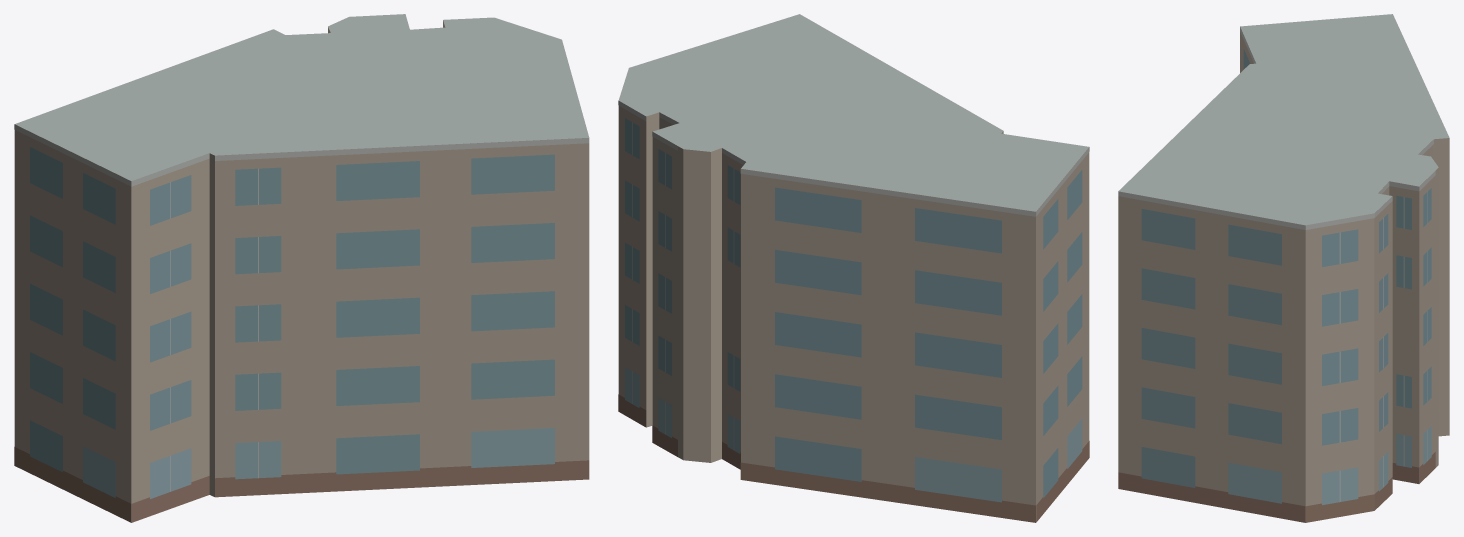
File: survey-upis-32991774.glb
3 renders of one model, left to right at view 1: azimuth 30°, elevation 25°; view 2: azimuth 150°, elevation 25°; view 3: azimuth 270°, elevation 25°, orthographic. The views are drawn at different scales.
Parts seen in each view (by area): view 1: survey-upis-32991774.tmp; view 2: survey-upis-32991774.tmp; view 3: survey-upis-32991774.tmp.
Part boxes in pixels (x1,y1,x2,y2): survey-upis-32991774.tmp: (14,14,589,522); survey-upis-32991774.tmp: (618,14,1089,522); survey-upis-32991774.tmp: (1118,14,1449,522).
Size of the model in its own units: 23.24 by 15.25 by 15.4.
